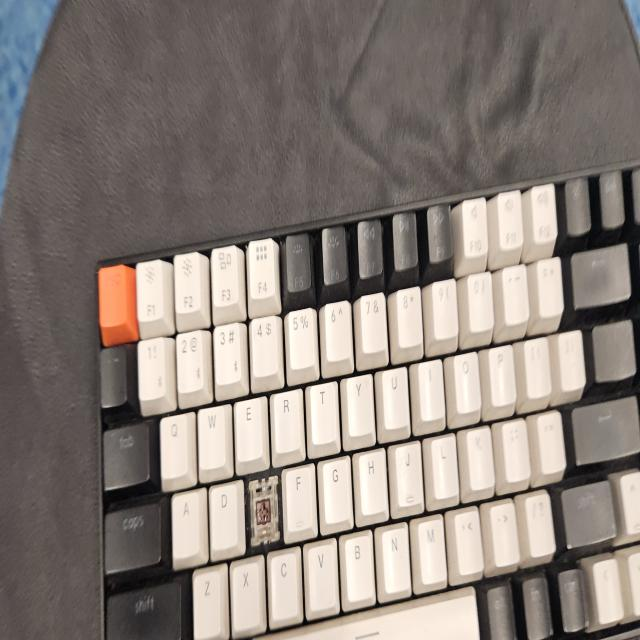C: (254, 484, 272, 534)
